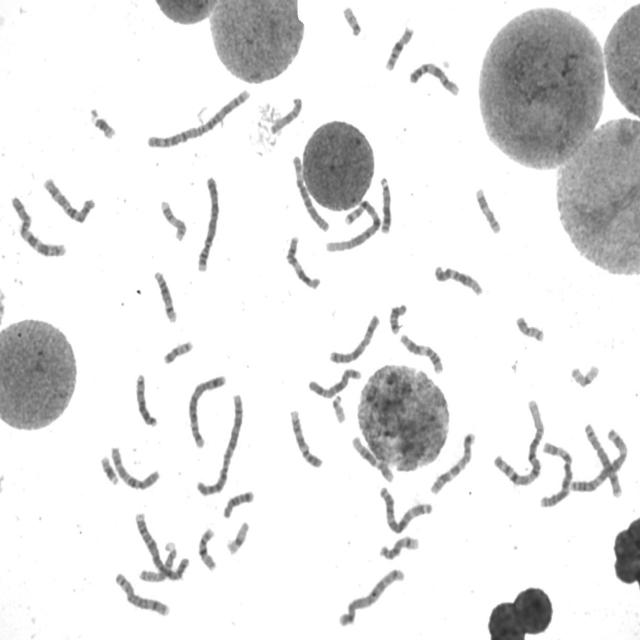A1: (492, 395, 546, 488), (322, 196, 382, 253)
A2: (144, 84, 252, 150), (195, 390, 245, 498)
A3: (568, 424, 629, 494), (376, 482, 434, 535)
B4: (132, 509, 190, 582), (194, 172, 221, 274)
B5: (335, 565, 406, 628), (186, 371, 228, 449)
C10: (41, 173, 98, 225), (108, 442, 162, 492)
C11: (284, 232, 322, 292), (398, 330, 446, 376)
C12: (349, 432, 396, 484), (431, 262, 485, 298)
C6: (289, 150, 331, 232), (537, 439, 575, 509)
C7: (8, 192, 68, 259), (428, 428, 478, 496)
C8: (582, 420, 625, 499), (112, 569, 171, 618)
C9: (287, 406, 324, 469), (406, 58, 462, 98)
D13: (133, 369, 159, 428), (378, 173, 393, 236)
D14: (150, 268, 178, 324), (377, 533, 420, 562)
D15: (136, 540, 178, 584), (268, 93, 304, 136)
E16: (382, 22, 416, 72), (196, 524, 218, 573)
E17: (472, 184, 502, 236), (158, 196, 188, 242)
E18: (220, 487, 256, 520), (387, 300, 408, 335)
F19: (224, 518, 251, 556), (568, 360, 601, 389)
F20: (513, 312, 546, 343), (161, 337, 195, 366)
G21: (87, 105, 118, 140), (98, 452, 121, 487)
G22: (340, 2, 363, 38), (329, 392, 348, 424)
X: (326, 311, 382, 365), (306, 365, 362, 400)
